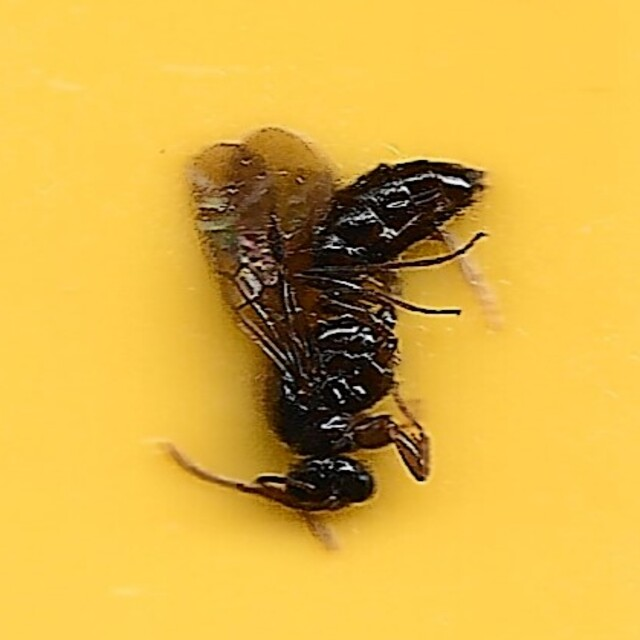Hymenoptera: (153, 125, 487, 515)
